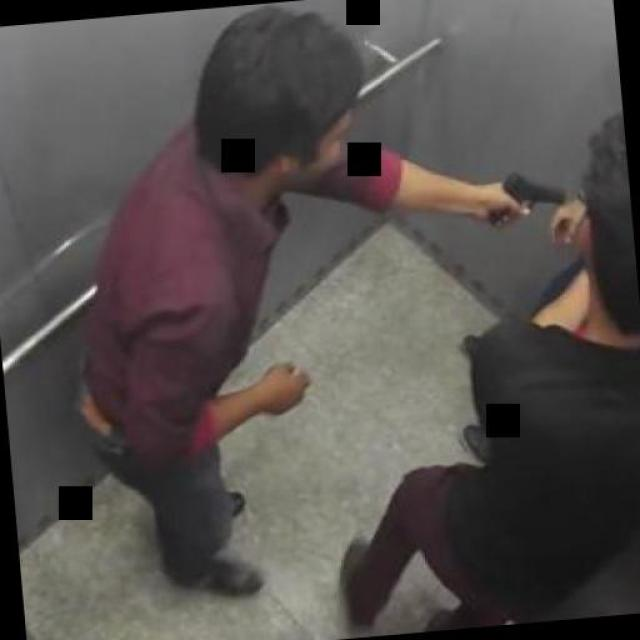gun: (488, 166, 572, 229)
